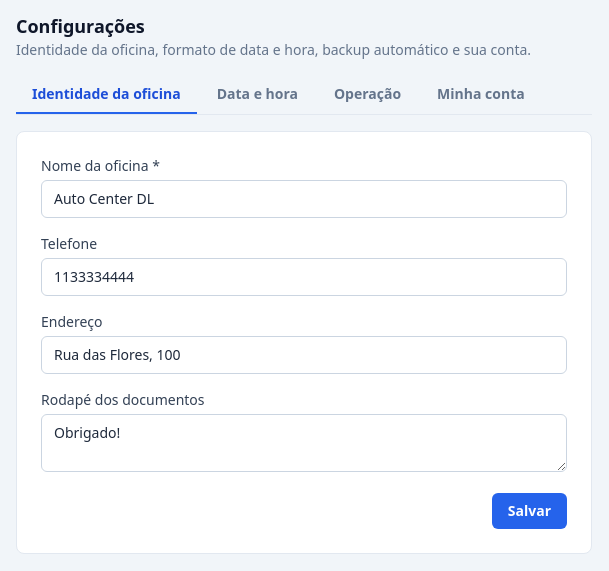
Test case: SettingsPage data/time tab (2026-09-18) › switches the app-wide time format without touching the other fields
The image size is (609, 571).
Click the tab "Data e hora". click: (257, 95)
box: [201,76,314,114]
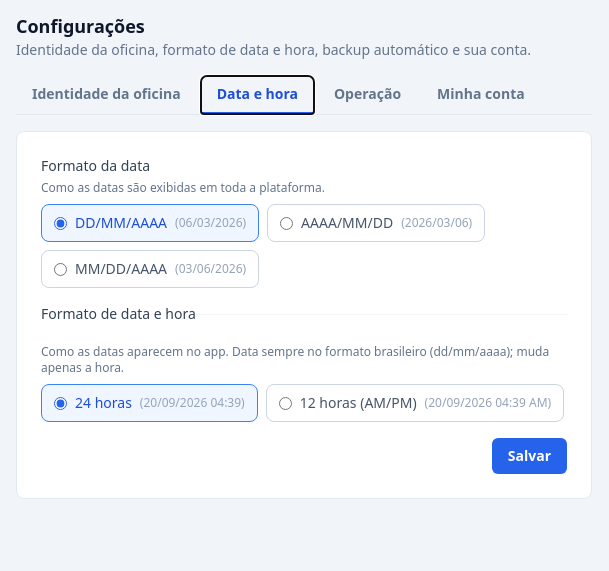
Result: the radio button labelled "24 horas (20/09/2026 04:39)" is checked at [54,396,67,410]
Click the radio button labelled "12 horas (AM/PM) (20/09/2026 04:39 AM)". click: (285, 403)
box: [279,396,292,410]
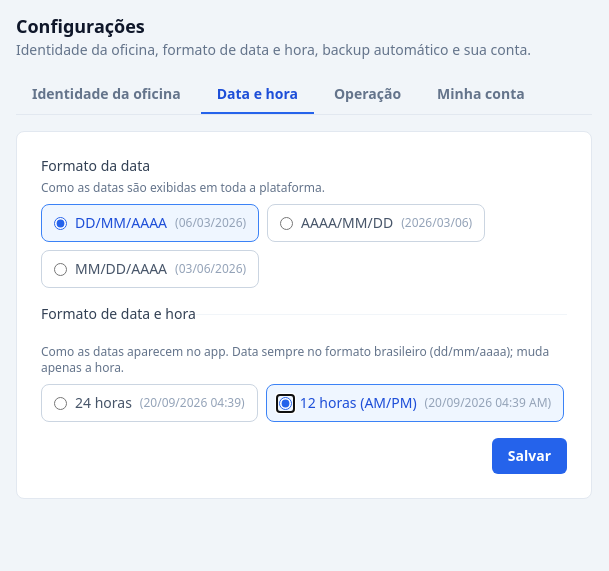
Result: the radio button labelled "12 horas (AM/PM) (20/09/2026 04:39 AM)" is checked at [279,396,292,410]
Click the button "Salvar". click: (529, 456)
box: [492,438,567,474]
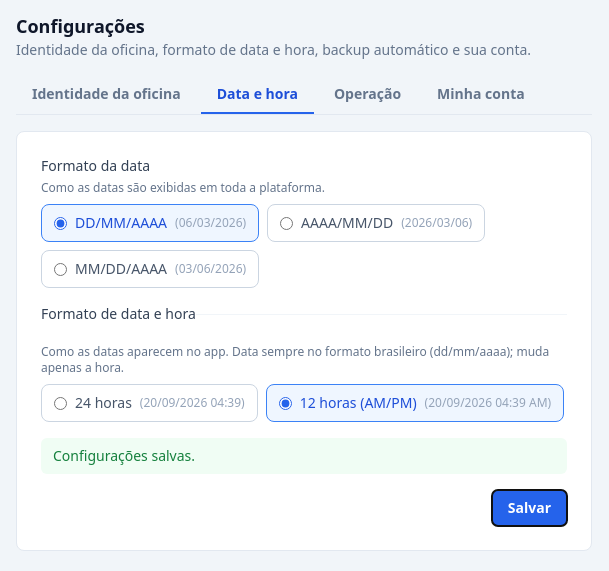
Result: the text "Configurações salvas." is shown at [41,438,567,474]
